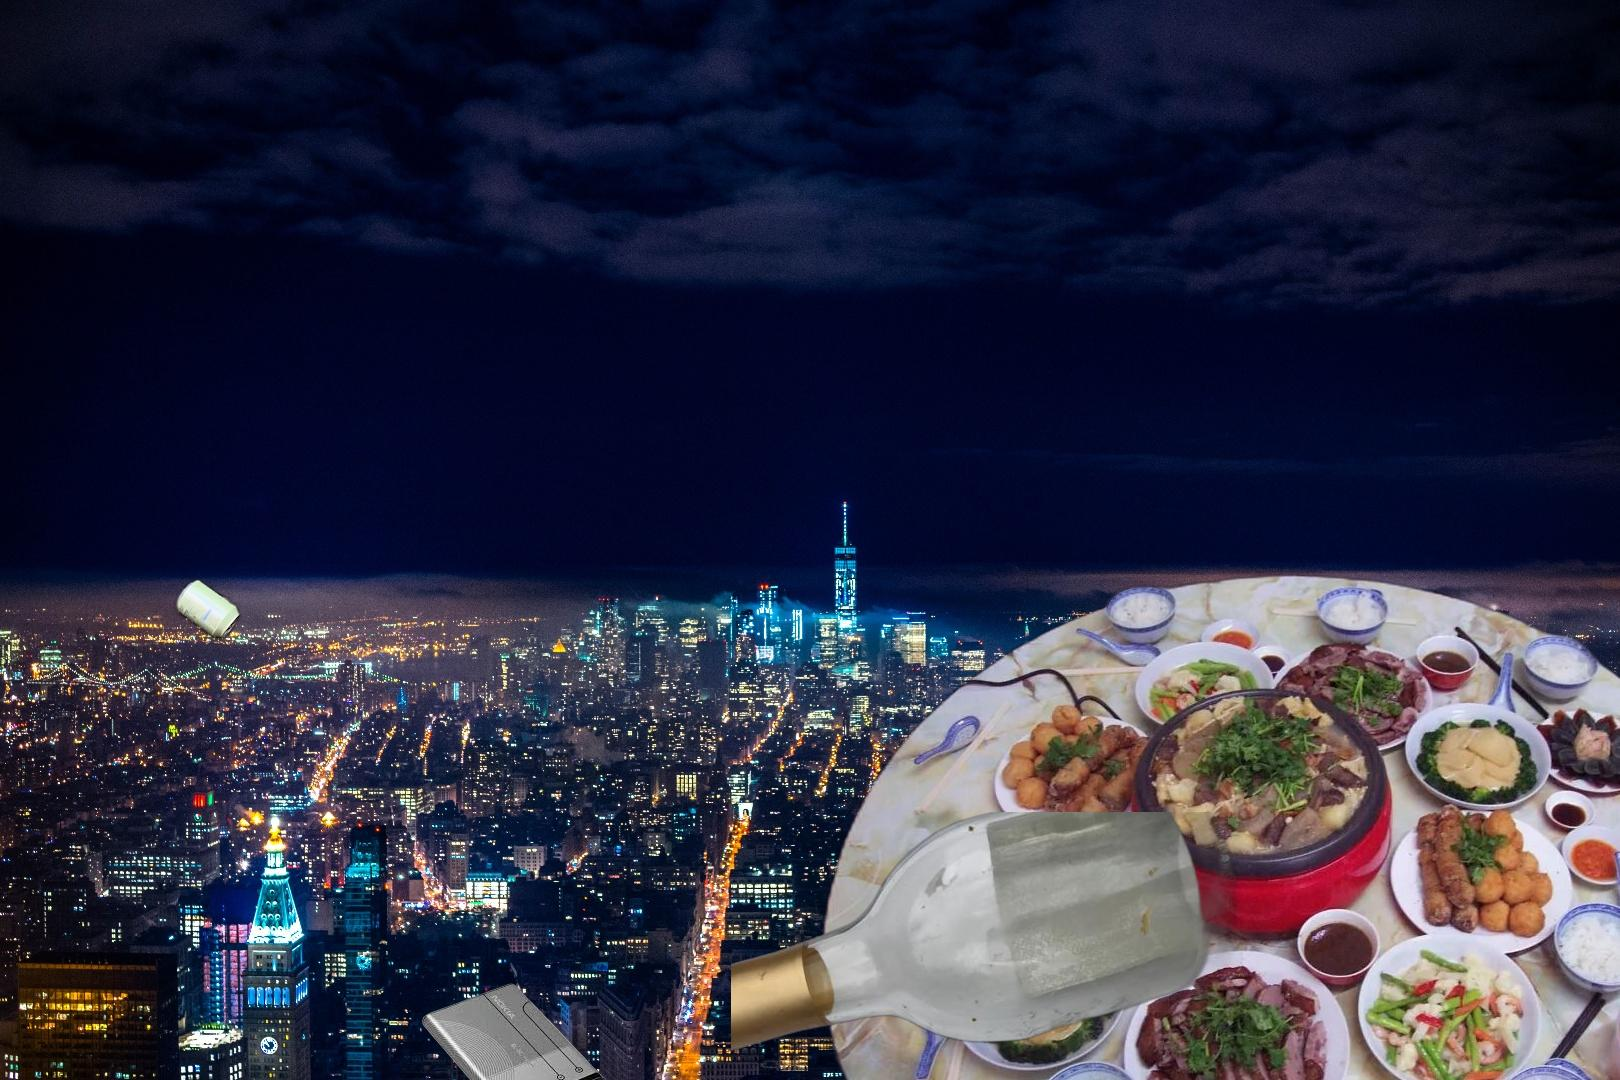battery: (419, 981, 612, 1080)
biological: (813, 568, 1620, 1080)
glass: (731, 812, 1243, 1080)
metal-cans: (173, 573, 288, 1080)
plastic-bottles: (1542, 654, 1620, 1017)
